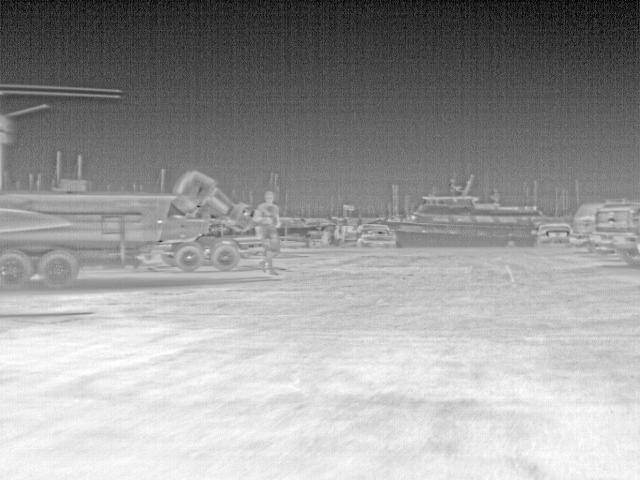car: (595, 199, 639, 270), (572, 201, 607, 252), (332, 222, 400, 248), (533, 220, 573, 248)
person: (254, 190, 283, 276)
